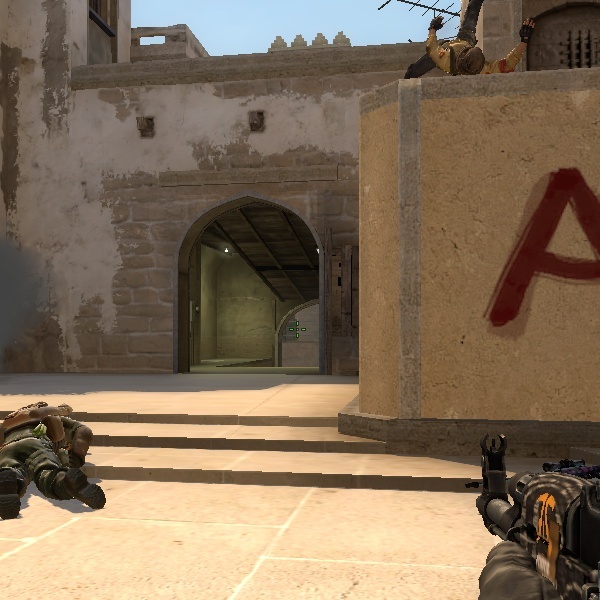t_head: (573, 451, 598, 519)
